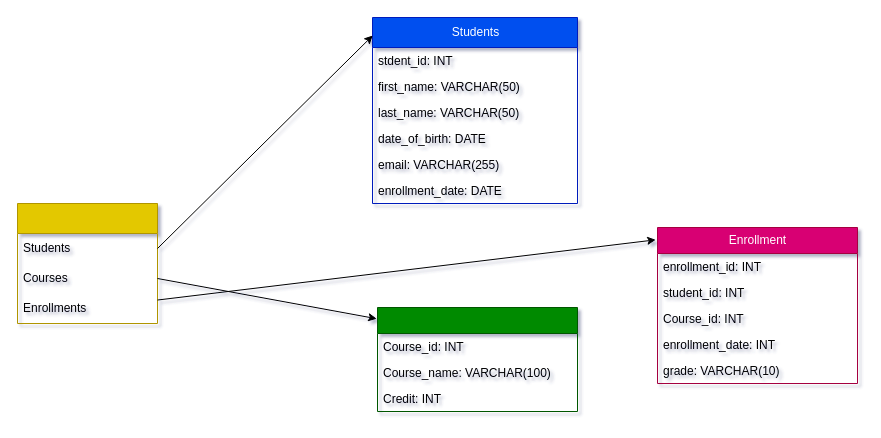
This 881x438 diagram has some shape labels left out. Each missing label, with the box of its shape:
Coursrs: (376, 306, 578, 412)
School management System: (16, 202, 158, 324)
